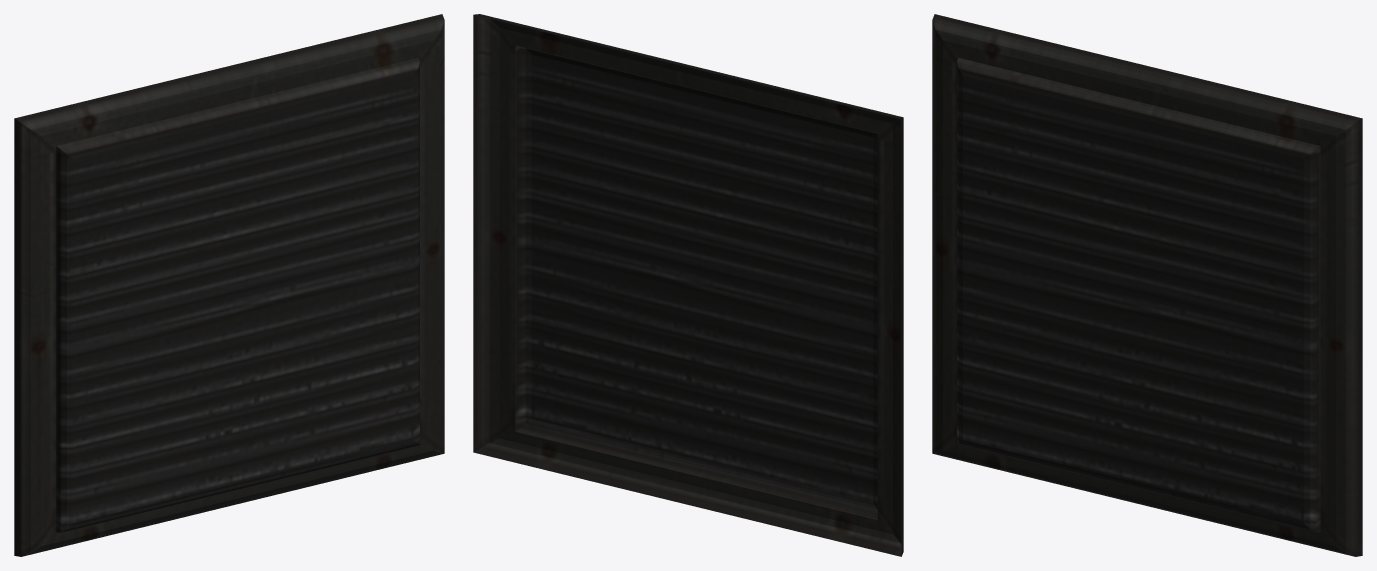
The model's file is vent_2.obj.
3 renders of one model, left to right at view 1: azimuth 30°, elevation 25°; view 2: azimuth 150°, elevation 25°; view 3: azimuth 330°, elevation 25°, orthographic.
Parts seen in each view (by area): view 1: vent_2; view 2: vent_2; view 3: vent_2.
Part boxes in pixels (bbox=[...]): vent_2: bbox=[14, 14, 444, 556]; vent_2: bbox=[473, 14, 903, 556]; vent_2: bbox=[932, 14, 1362, 556].
Size of the model in its own units: 0.8192 by 0.8 by 0.05.
